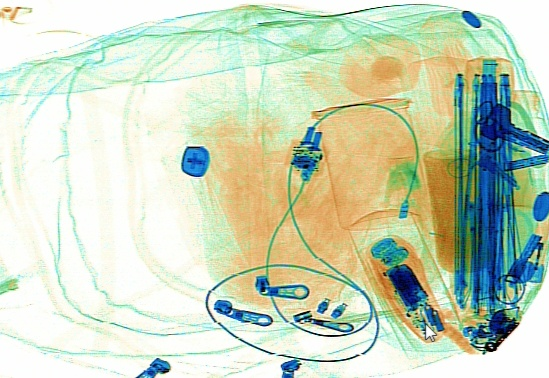lighter: (524, 217, 545, 286)
